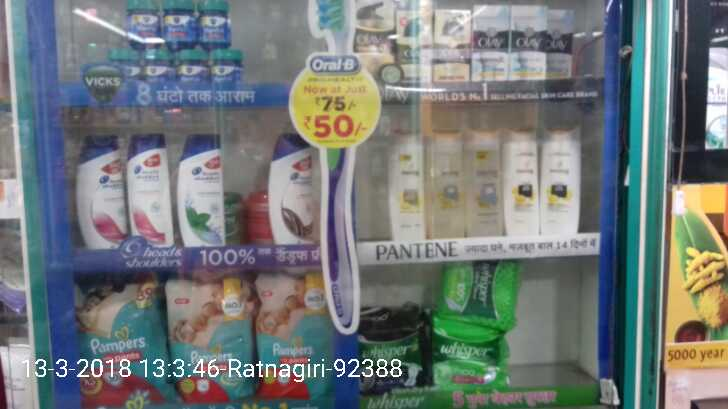beauty: (266, 131, 323, 255), (173, 125, 230, 244), (76, 136, 131, 256), (538, 127, 588, 244), (461, 122, 509, 238), (126, 132, 174, 245), (380, 118, 424, 239), (427, 126, 467, 243), (503, 130, 541, 235), (428, 6, 470, 86), (393, 4, 435, 83), (475, 2, 515, 84), (353, 1, 395, 67), (512, 7, 545, 83), (544, 6, 574, 84)
pharmacy: (72, 286, 164, 409), (168, 288, 252, 399), (251, 275, 328, 395), (353, 316, 431, 390), (444, 254, 525, 317), (429, 328, 503, 389), (160, 1, 203, 50), (209, 45, 244, 94), (199, 4, 233, 47), (175, 48, 210, 88), (121, 2, 155, 41), (144, 40, 166, 89)
